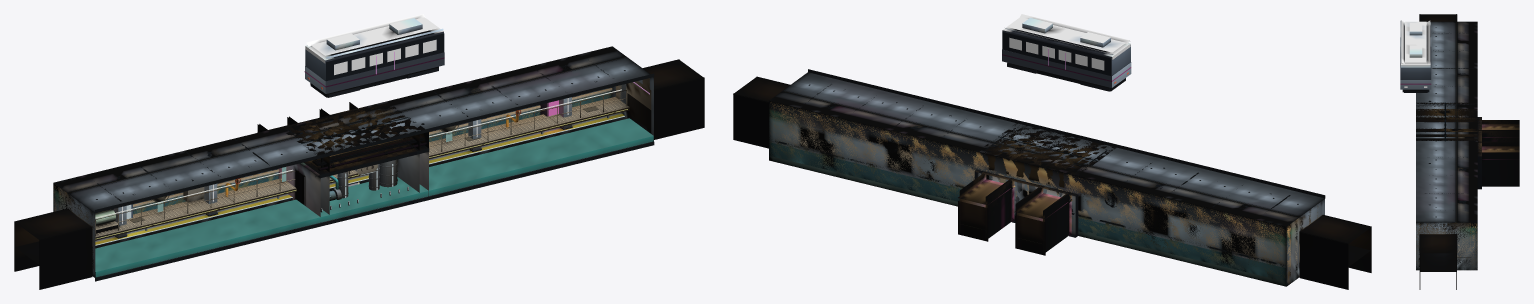
The model's file is under339.glb.
3 renders of one model, left to right at view 1: azimuth 30°, elevation 25°; view 2: azimuth 150°, elevation 25°; view 3: azimuth 270°, elevation 25°, orthographic. The views are drawn at different scales.
Visible parts, largest first — view 1: metro__lit, sewer__water, sewer__metal, train__metal, roadA__lit, sewer__lit, utilA__lit, roadA_m__lit, metro__metal, roadA__metal, sewer__emit, metro__emit (+4 smaller); view 2: metro__lit, sewer__lit, roadA__lit, train__metal, roadA_m__lit, utilA__lit, metro__metal, train__emit, sewer__metal; view 3: metro__lit, roadA__lit, train__metal, roadA_m__lit, utilA__lit, sewer__lit, metro__metal, sewer__metal.
Part boxes in pixels (x1,y1,x2,y2): metro__lit: (14, 46, 704, 289); sewer__water: (95, 118, 653, 277); sewer__metal: (90, 56, 629, 240); train__metal: (304, 14, 444, 97); roadA__lit: (257, 102, 429, 226); sewer__lit: (53, 78, 653, 277); utilA__lit: (291, 104, 419, 221); roadA_m__lit: (257, 102, 429, 224); metro__metal: (68, 56, 626, 217); roadA__metal: (299, 117, 426, 203); sewer__emit: (95, 89, 627, 239); metro__emit: (95, 82, 649, 245); metro__lit: (733, 69, 1371, 289); sewer__lit: (769, 101, 1322, 286); roadA__lit: (958, 123, 1116, 255); train__metal: (1002, 14, 1131, 91); roadA_m__lit: (958, 123, 1116, 254); utilA__lit: (986, 126, 1106, 203); metro__metal: (782, 90, 1298, 217); train__emit: (1009, 37, 1128, 83); sewer__metal: (801, 84, 1298, 210); metro__lit: (1416, 14, 1477, 289); roadA__lit: (1416, 102, 1519, 189); train__metal: (1400, 20, 1431, 92); roadA_m__lit: (1416, 102, 1519, 189); utilA__lit: (1416, 105, 1477, 130); sewer__lit: (1416, 222, 1477, 270); metro__metal: (1455, 22, 1457, 221); sewer__metal: (1424, 27, 1474, 257).
Bounding box in the file's own units: 40.3 × 10.51 × 8.51.
